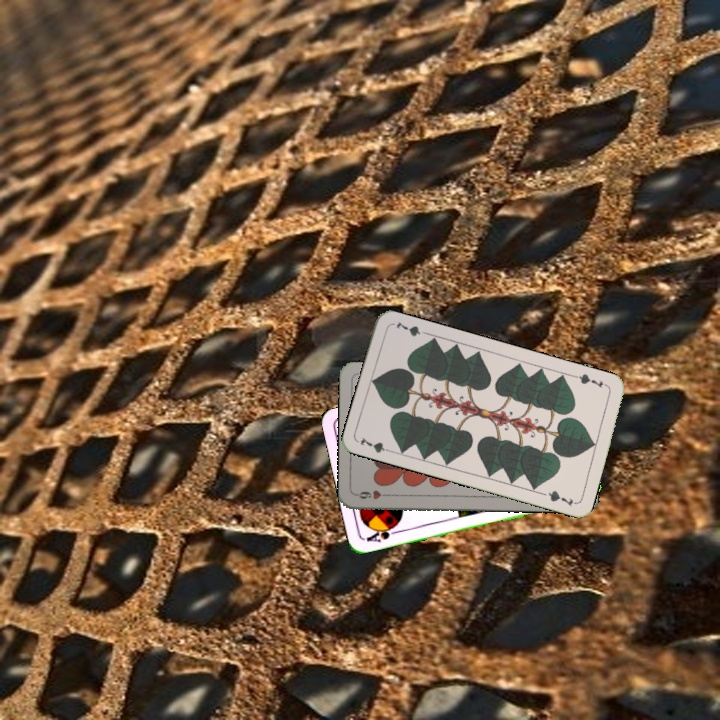G7: (356, 433, 396, 455), (571, 369, 610, 391)
H9: (353, 486, 393, 502)
SA: (362, 521, 402, 545)
